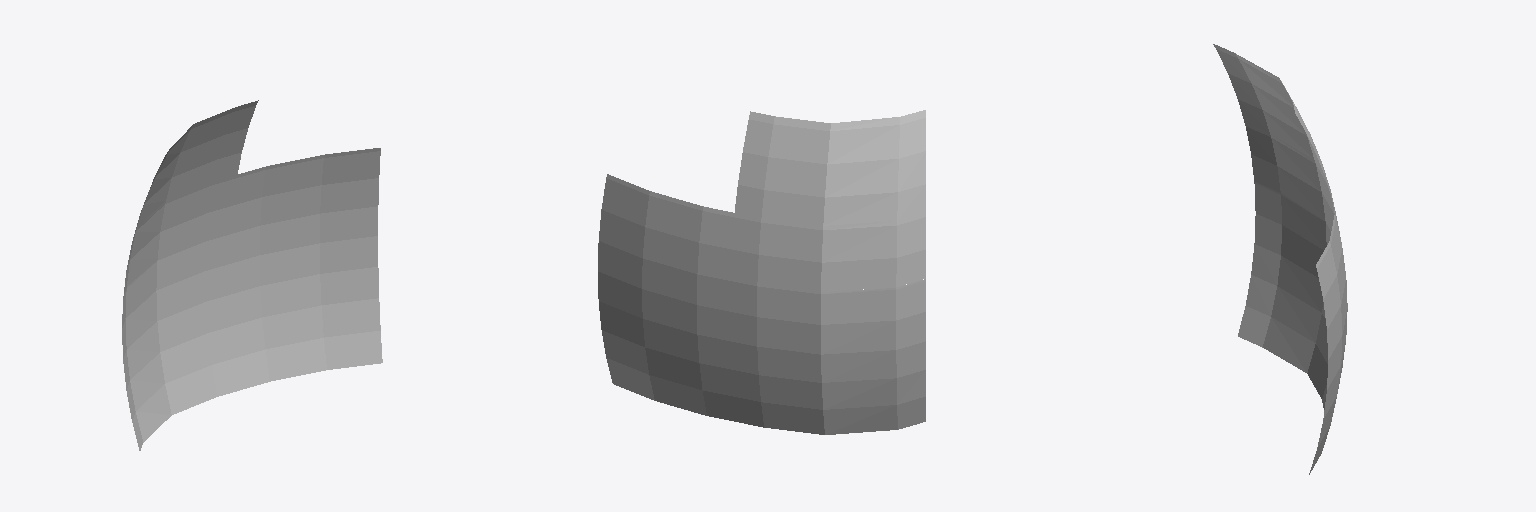
Rendered from Tower2_Mesh2.obj.
3 renders of one model, left to right at view 1: azimuth 30°, elevation 25°; view 2: azimuth 150°, elevation 25°; view 3: azimuth 270°, elevation 25°, orthographic.
Parts seen in each view (by area): view 1: sphere27, sphere24, sphere23, sphere26, sphere25; view 2: sphere23, sphere24, sphere27, sphere25, sphere26; view 3: sphere24, sphere23, sphere27, sphere26.
Boxes of the visible parts, <box> form: sphere27: <box>230,204,382,389</box>; sphere24: <box>122,232,241,450</box>; sphere23: <box>123,100,258,296</box>; sphere26: <box>303,148,380,214</box>; sphere25: <box>231,158,307,231</box>; sphere23: <box>730,110,925,291</box>; sphere24: <box>729,279,925,434</box>; sphere27: <box>598,239,737,421</box>; sphere25: <box>658,195,733,277</box>; sphere26: <box>599,174,664,259</box>; sphere24: <box>1238,182,1330,409</box>; sphere23: <box>1213,44,1339,231</box>; sphere27: <box>1309,278,1347,474</box>; sphere26: <box>1316,235,1341,326</box>.
Bounding box in the file's own units: 6.76 × 6.71 × 2.71.